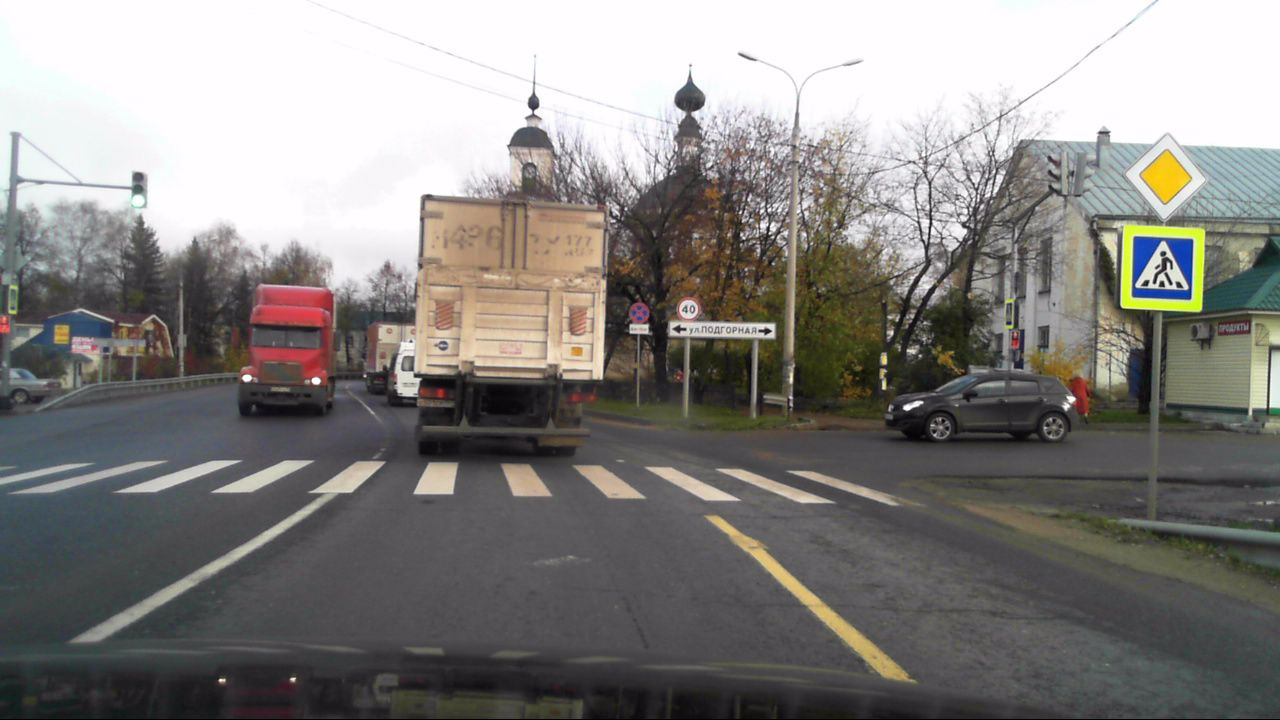No Parking: (627, 302, 649, 323)
speed_warning_40: (675, 296, 700, 322)
